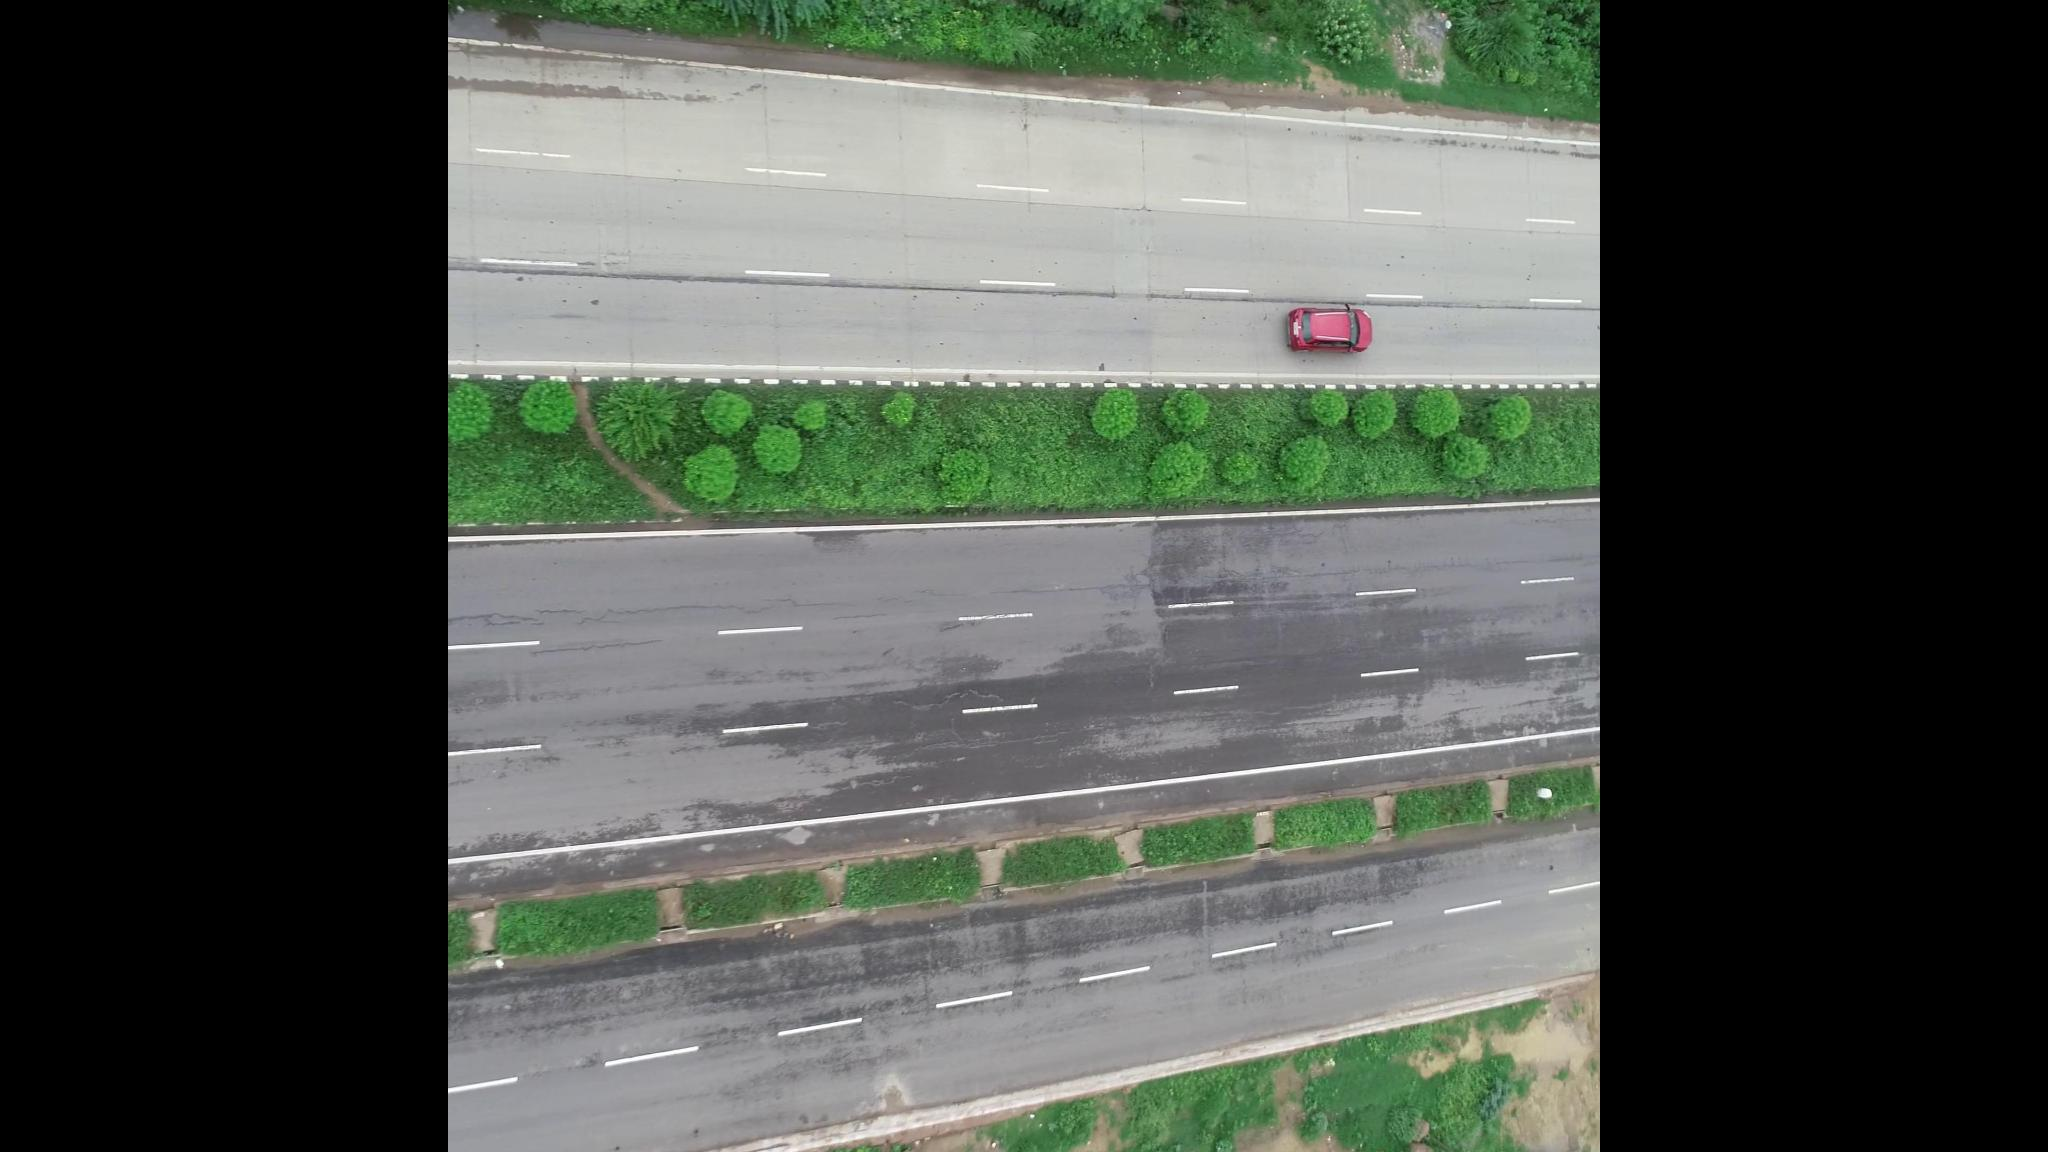Cracks: (466, 588, 859, 623), (928, 567, 1145, 609)
